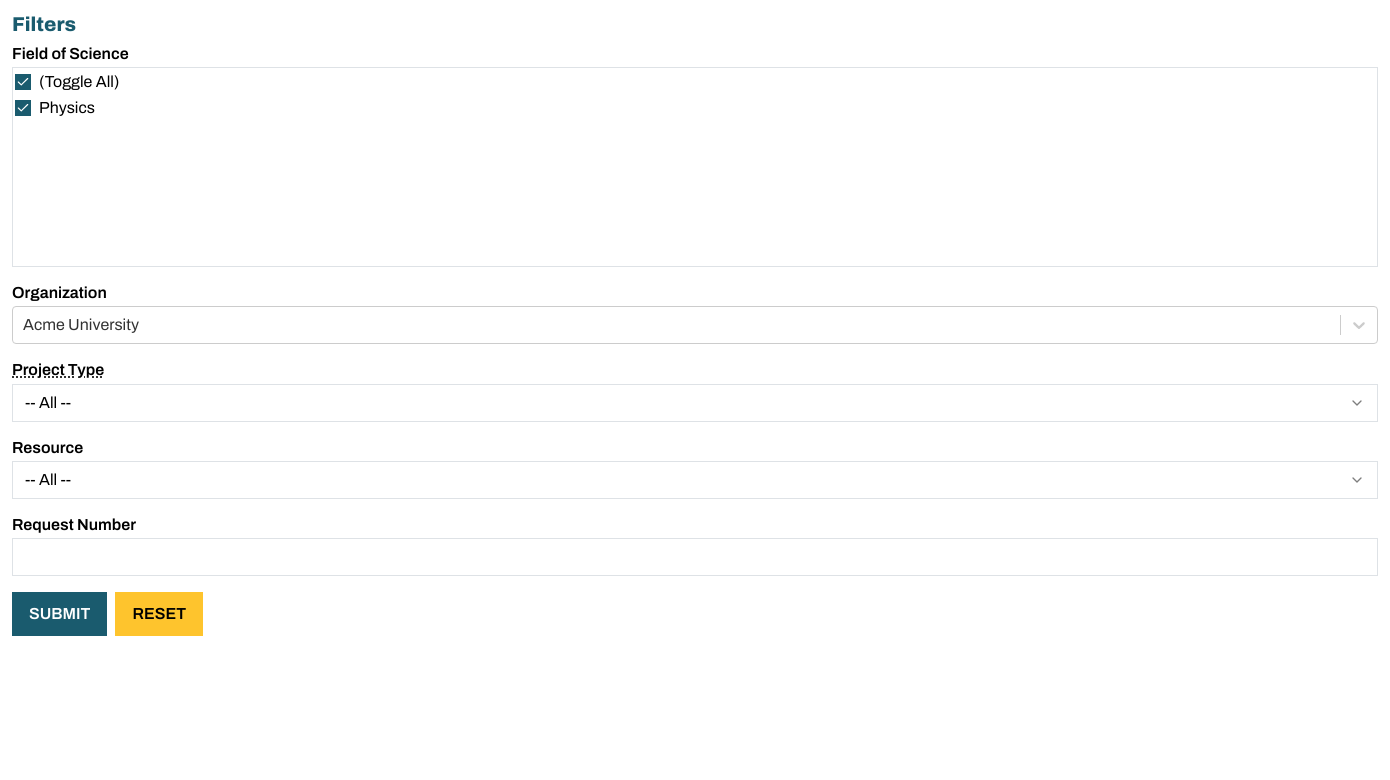
Test: Filters - organization filter › treats an explicitly chosen '-- All --' as no org filter at all
Expected: the button "Reset" is enabled, [116,592,203,636]
Click the dropdown labelled "Organization": (25, 325) [23,313,26,337]
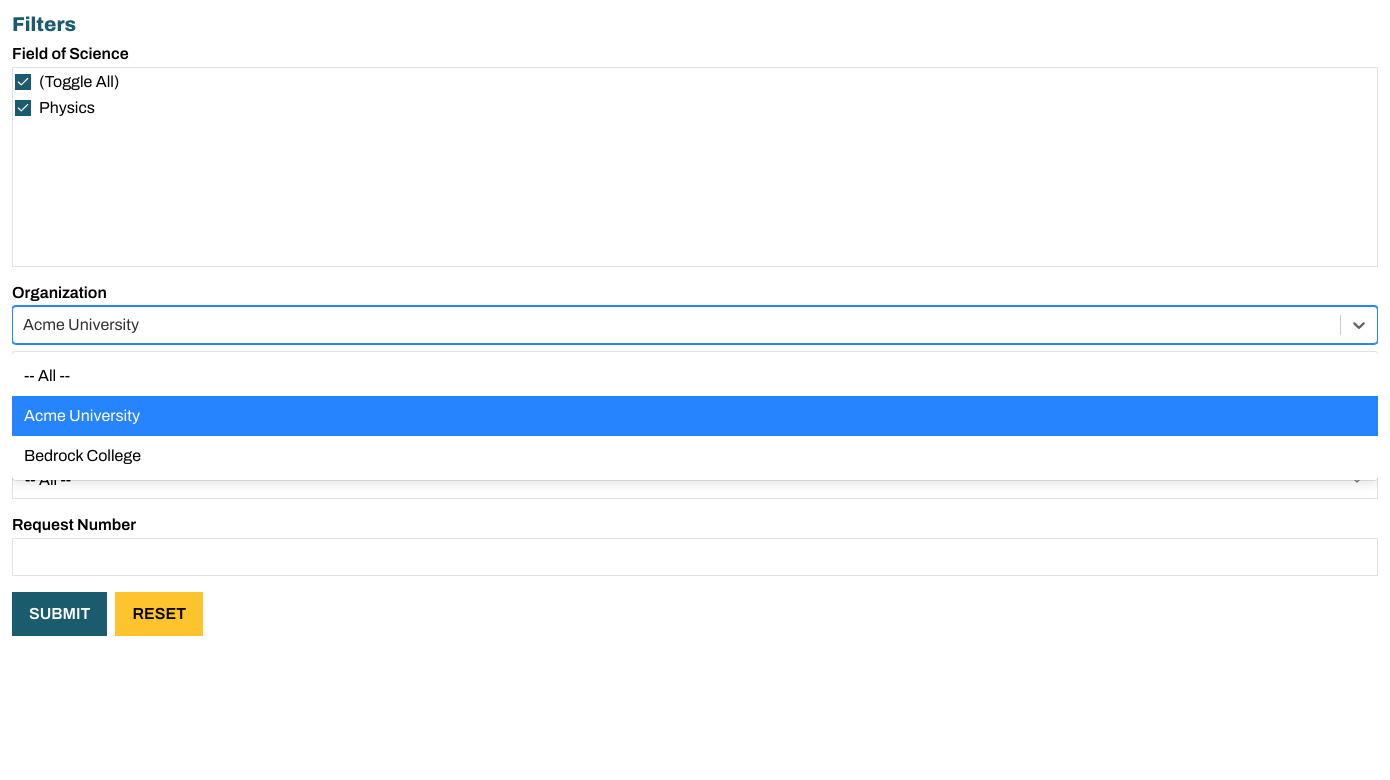
Click the option "-- All --": (47, 376) [24,367,70,384]
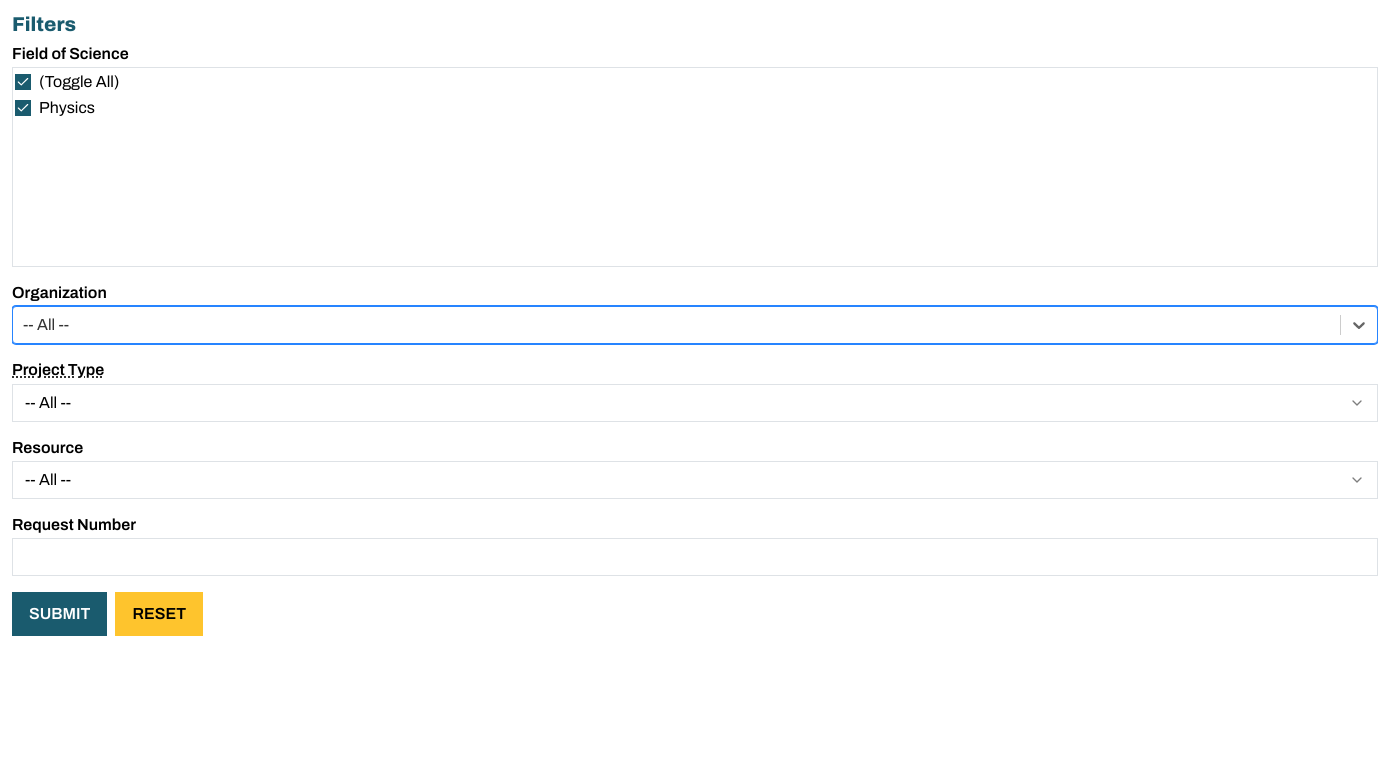
Click the button "Submit": (60, 614) [12,592,108,636]
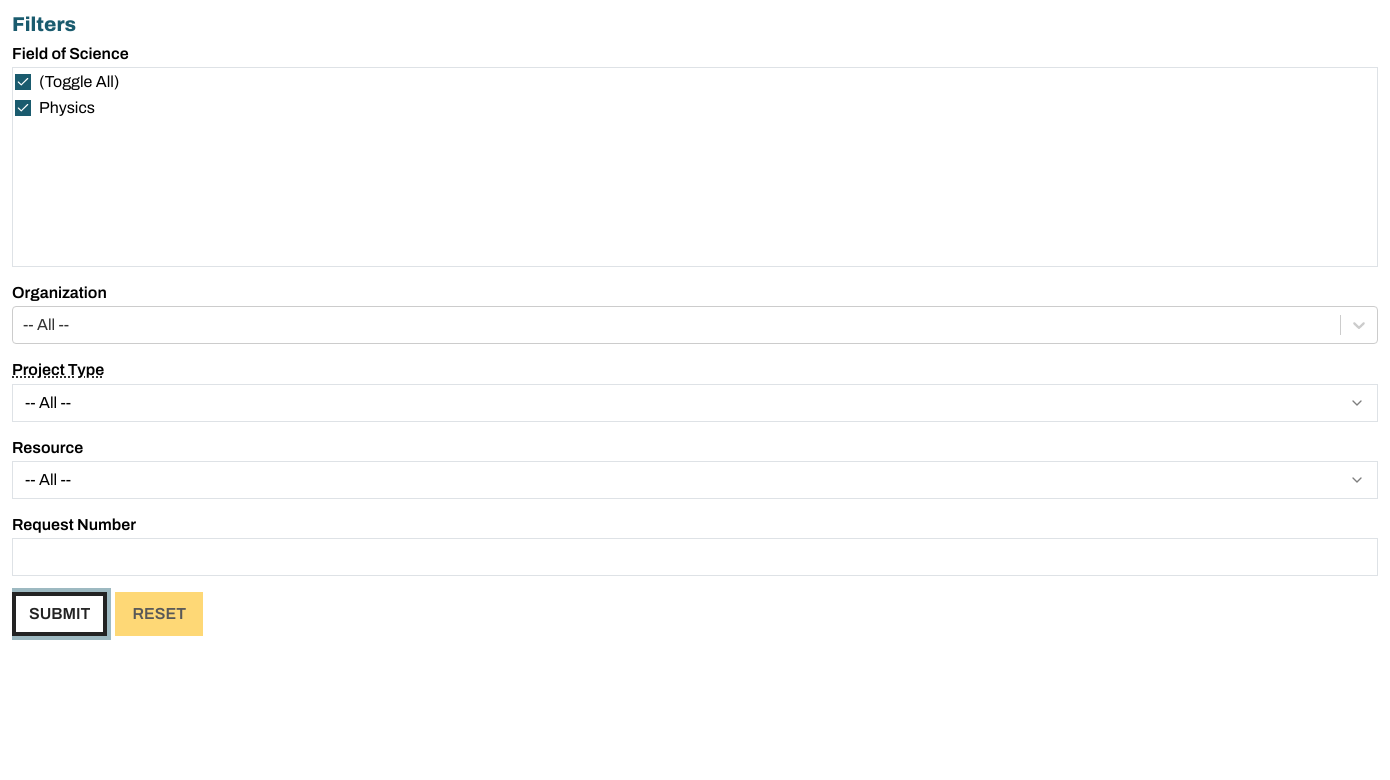
Now the button "Reset" is disabled, box [116,592,203,636]
